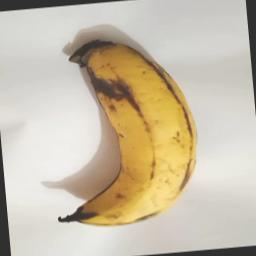Banana Unripe: (36, 30, 206, 233)
